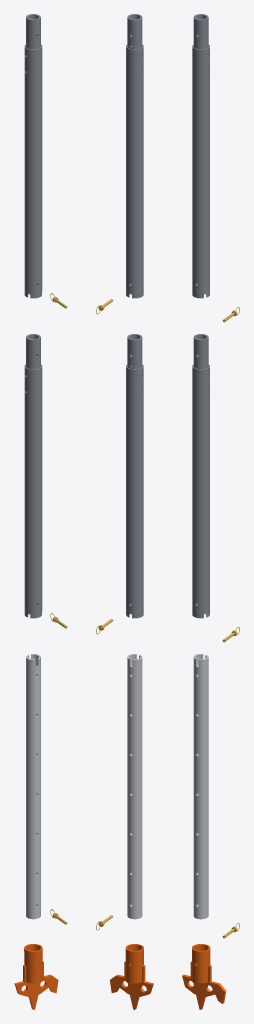
Rendered from 00_pata_explotada.glb.
The picture shows the model from 3 angles, left to right: view 1: azimuth 30°, elevation 25°; view 2: azimuth 150°, elevation 25°; view 3: azimuth 330°, elevation 25°; orthographic projection.
Visible parts, largest first — view 1: pe1, pe2, pi, pie; view 2: pe1, pe2, pi, pie; view 3: pe1, pe2, pi, pie.
Part boxes in pixels (x1,y1,x2,y2): pe1: (24,14,42,298); pe2: (24,334,42,618); pi: (26,654,40,919); pie: (14,944,58,1009); pe1: (126,14,143,298); pe2: (126,334,143,618); pi: (127,654,142,919); pie: (109,944,153,1009); pe1: (192,14,209,298); pe2: (192,334,209,618); pi: (193,654,208,919); pie: (182,944,225,1009).
Bounding box in the file's own units: 191 × 3752 × 108.
